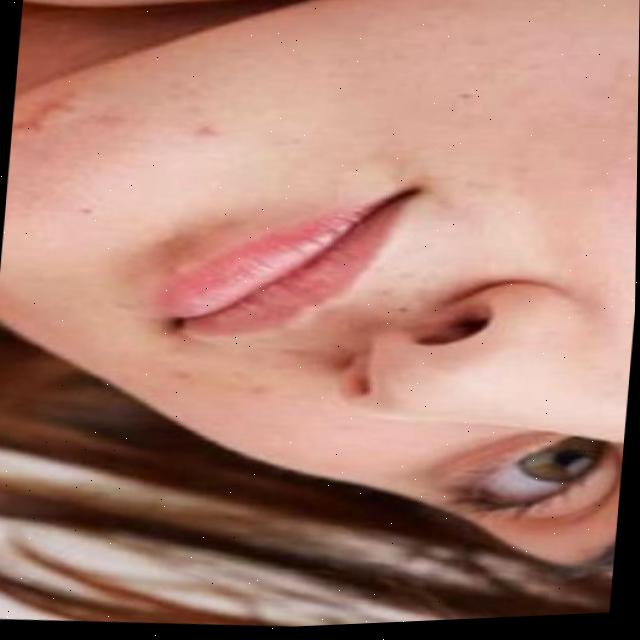Acne: (11, 96, 69, 149)
